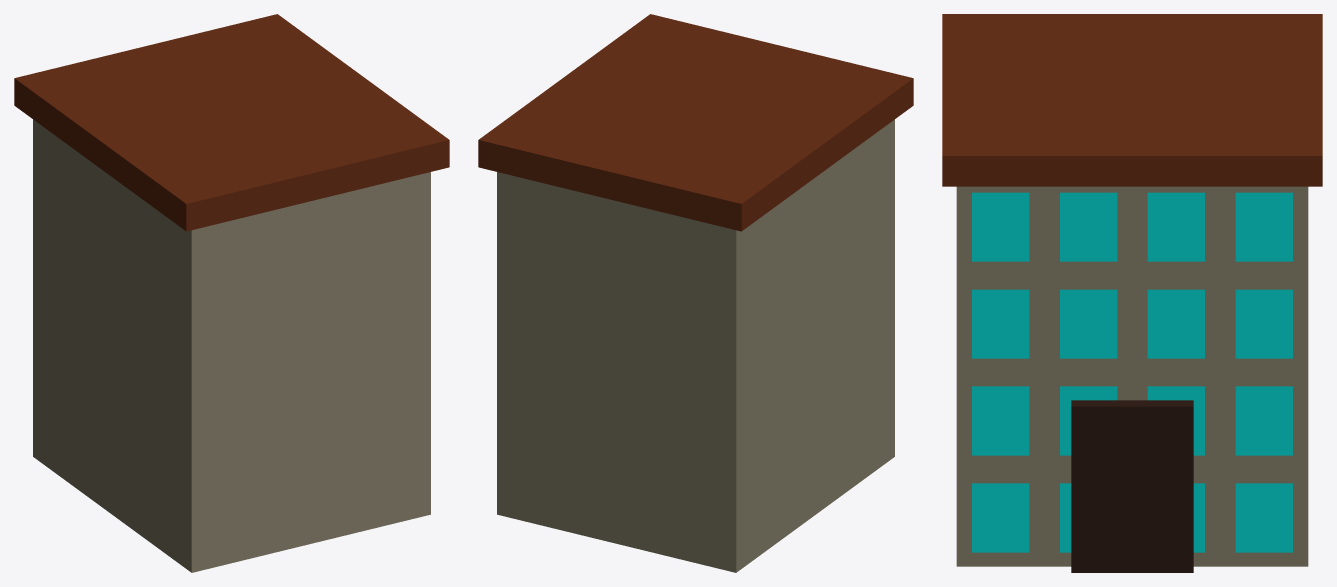
File: house3.glb
3 views of the same model, side by side, from view 1: azimuth 30°, elevation 25°; view 2: azimuth 150°, elevation 25°; view 3: azimuth 270°, elevation 25° (orthographic). The views are drawn at different scales.
Parts seen in each view (by area): view 1: Cube; view 2: Cube; view 3: Cube.
Part boxes in pixels (left/top/right/bottom): Cube: left=14, top=14, right=449, bottom=572; Cube: left=478, top=14, right=913, bottom=572; Cube: left=942, top=14, right=1322, bottom=572.
Bounding box in the file's own units: 2.2 × 3.01 × 2.49.
